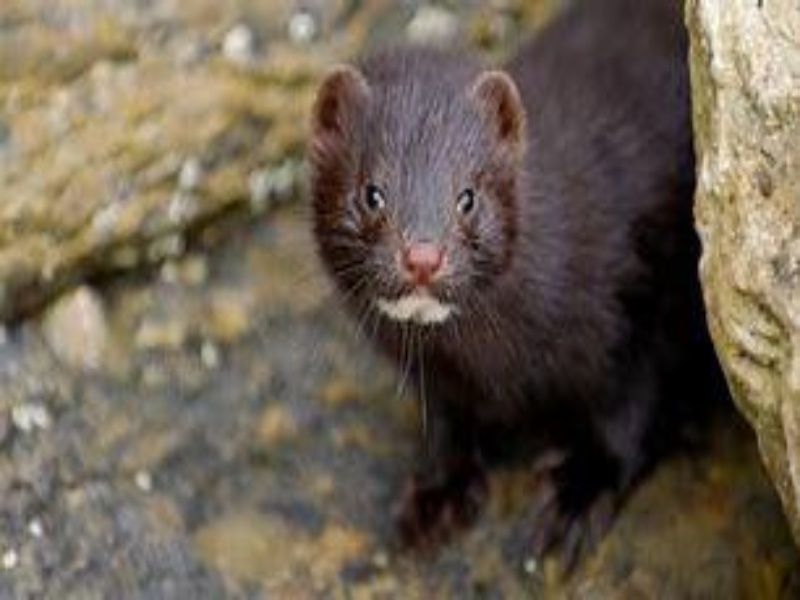minkish: (303, 1, 701, 563)
